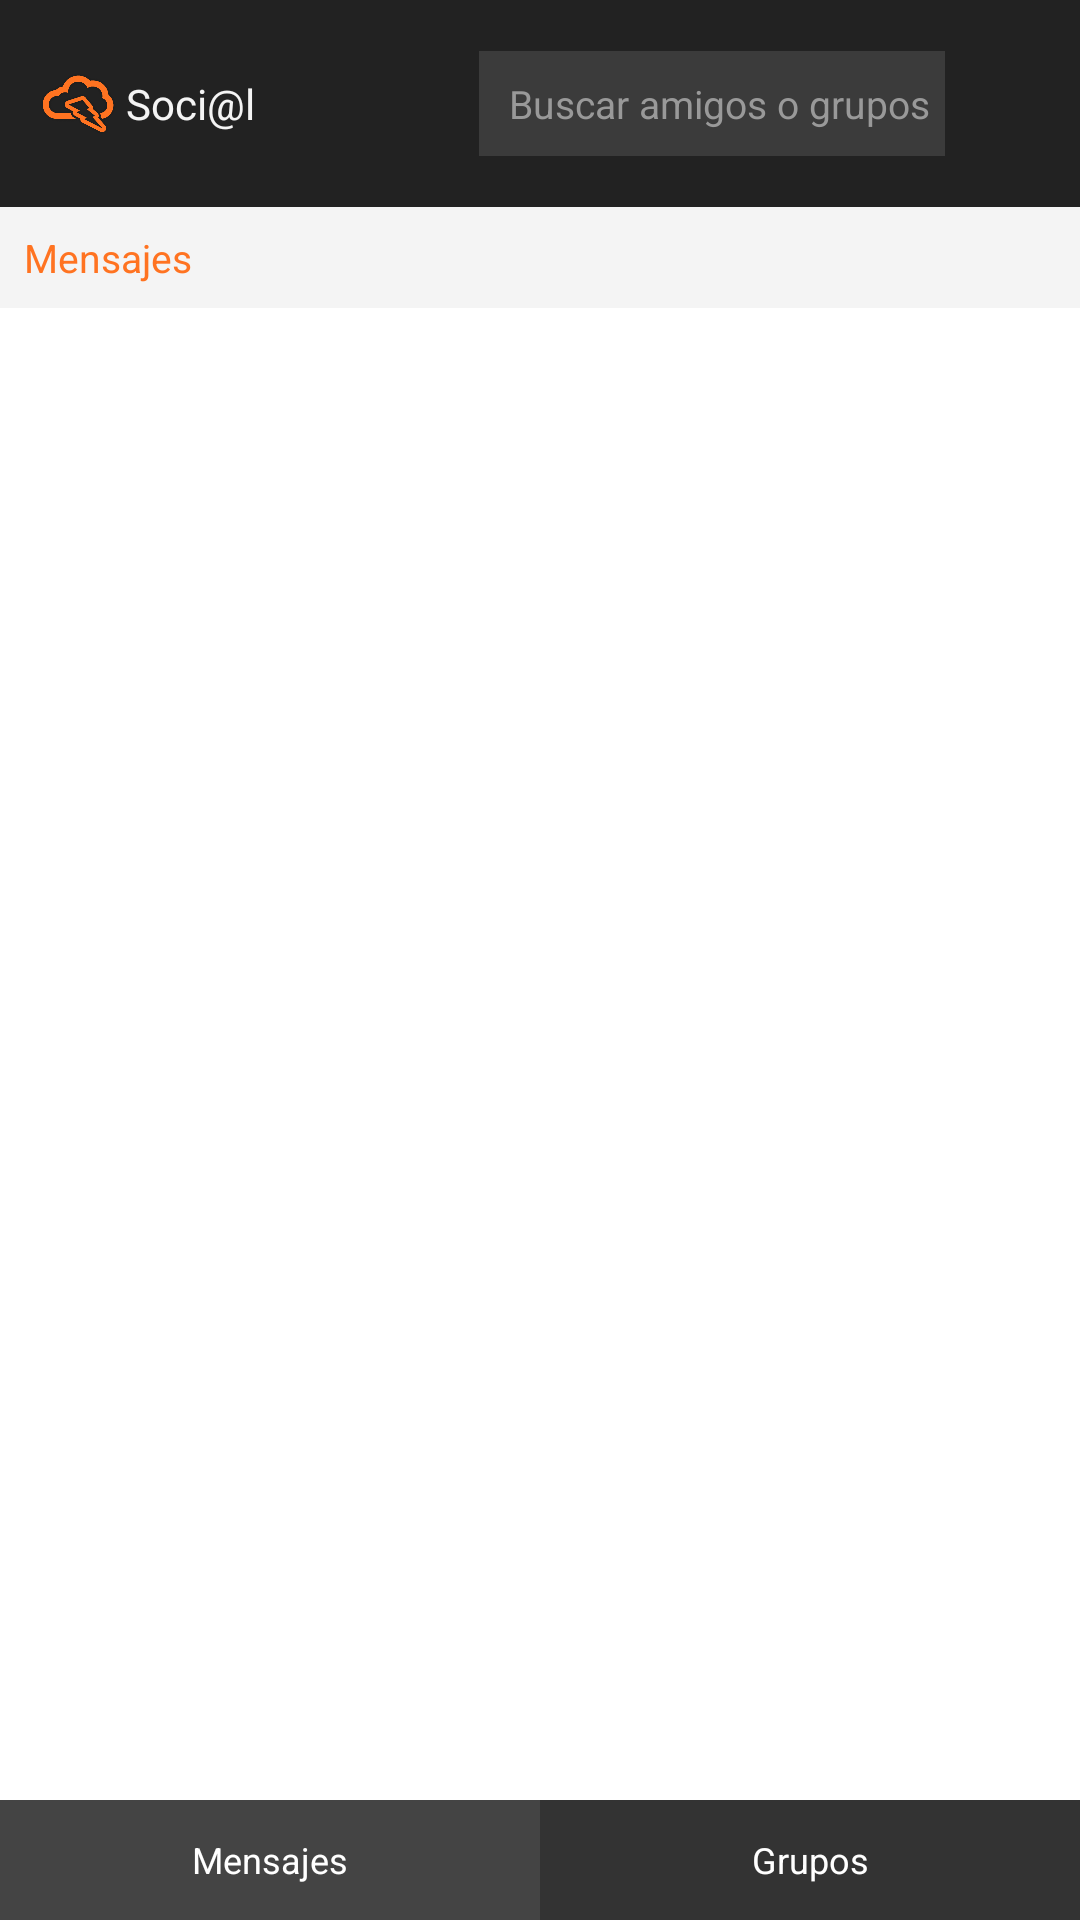

Icon bounding boxes for this 1080 x 1920 phone screenshot, format BBox(x1, y1, x2, y2):
nube naranja: BBox(43, 75, 114, 132)
